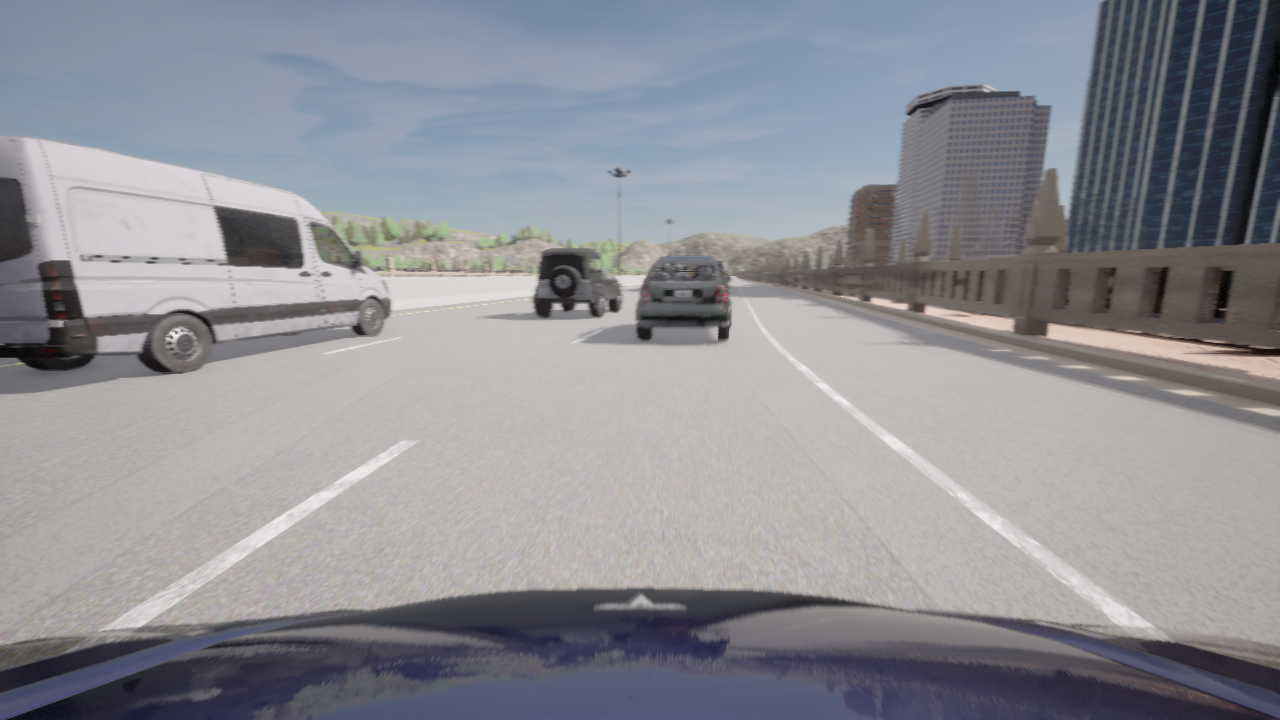cyclist: (0, 588, 1279, 719), (636, 256, 730, 340), (533, 249, 621, 316), (715, 260, 728, 297), (604, 270, 617, 281), (724, 263, 731, 275)
